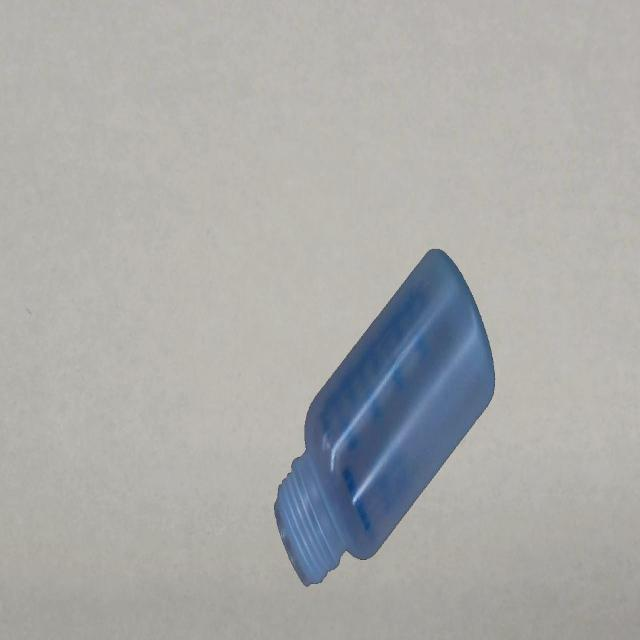bottle: (273, 244, 497, 590)
